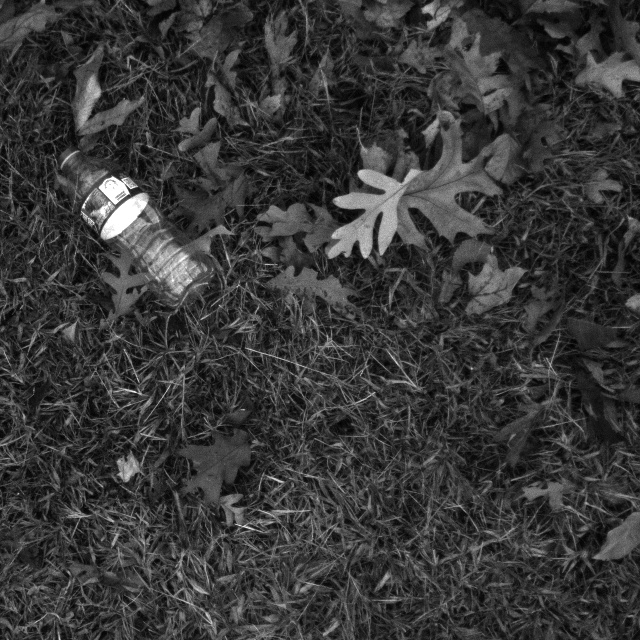bottle: (51, 139, 210, 319)
